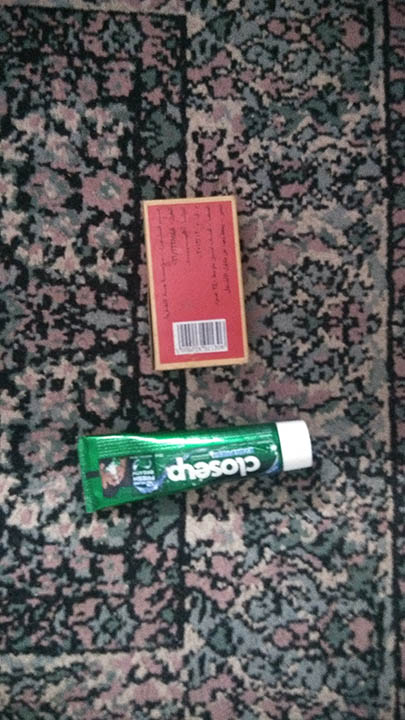Toothpaste-Closeup 3.04$: (78, 411, 321, 518)
match-sticks .90$: (139, 193, 256, 377)
